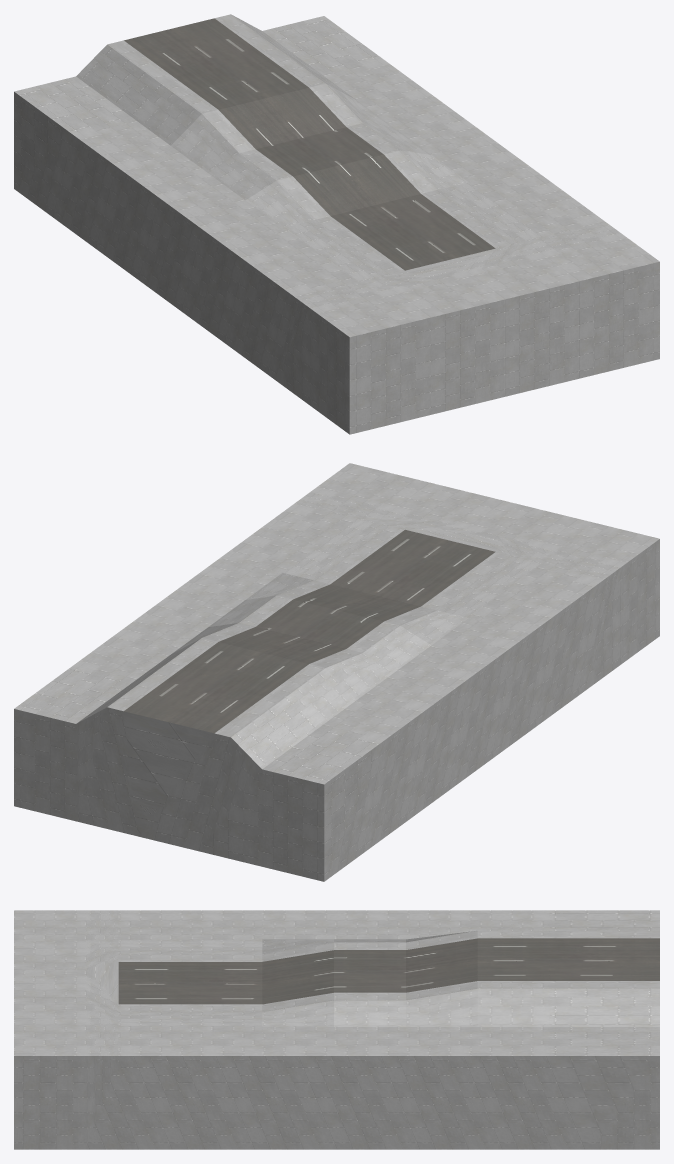
The model's file is SpaceStation_Home.fbx.
3 views of the same model, one above another, from view 1: azimuth 30°, elevation 25°; view 2: azimuth 150°, elevation 25°; view 3: azimuth 270°, elevation 25° (orthographic). The views are drawn at different scales.
Parts seen in each view (by area): view 1: SpaceStation_Home; view 2: SpaceStation_Home; view 3: SpaceStation_Home.
Part boxes in pixels (x1,y1,x2,y2): SpaceStation_Home: [14, 14, 659, 434]; SpaceStation_Home: [14, 463, 659, 881]; SpaceStation_Home: [14, 910, 659, 1149].
Bounding box in the file's own units: 267 × 100 × 500.
